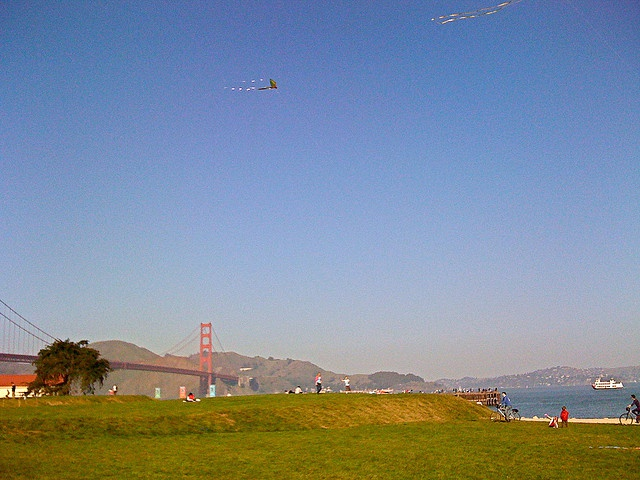non-vehicle: (488, 403, 520, 422), (619, 409, 640, 424)
